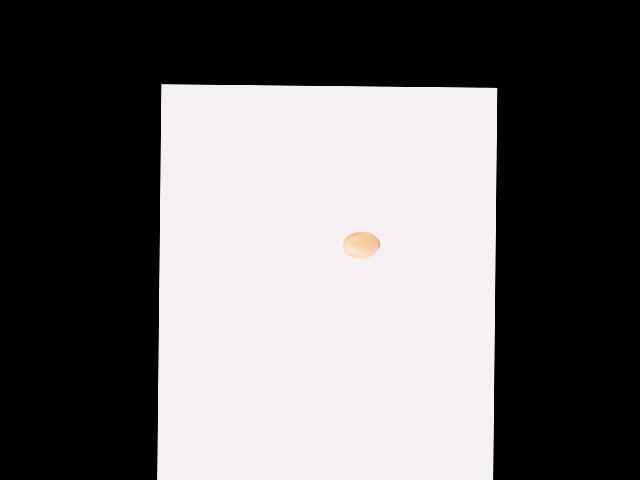egg: (342, 231, 379, 258)
